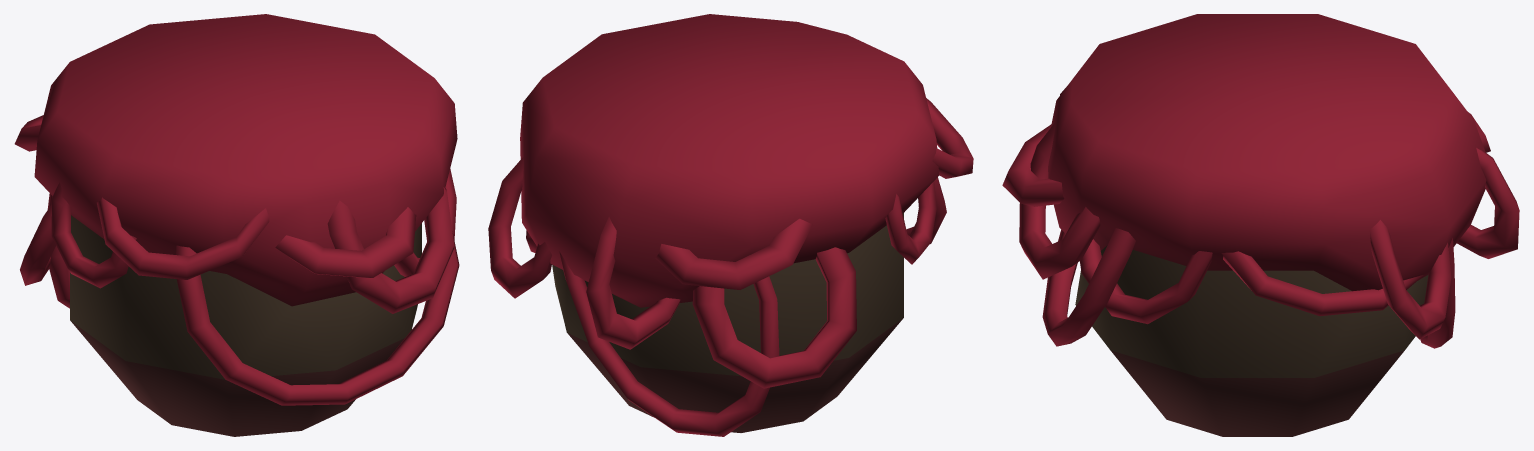
File: Alien_Island04.fbx
3 renders of one model, left to right at view 1: azimuth 30°, elevation 25°; view 2: azimuth 150°, elevation 25°; view 3: azimuth 270°, elevation 25°, orthographic. The views are drawn at different scales.
Visible parts, largest first — view 1: Alien_Island04; view 2: Alien_Island04; view 3: Alien_Island04.
Boxes of the visible parts, x1,y1,x2,y2 form: Alien_Island04: (14, 14, 459, 436); Alien_Island04: (488, 14, 973, 436); Alien_Island04: (1002, 14, 1519, 436).
Bounding box in the file's own units: 2993 × 2569 × 3583.
